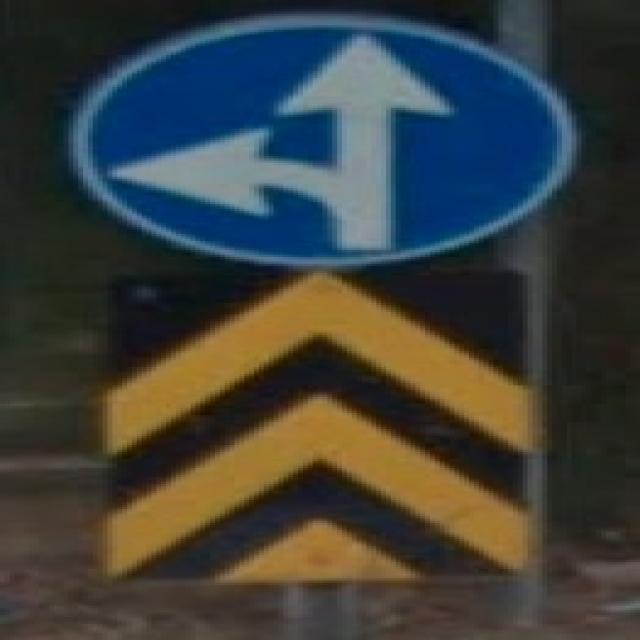Straight or Left: (72, 8, 570, 267)
